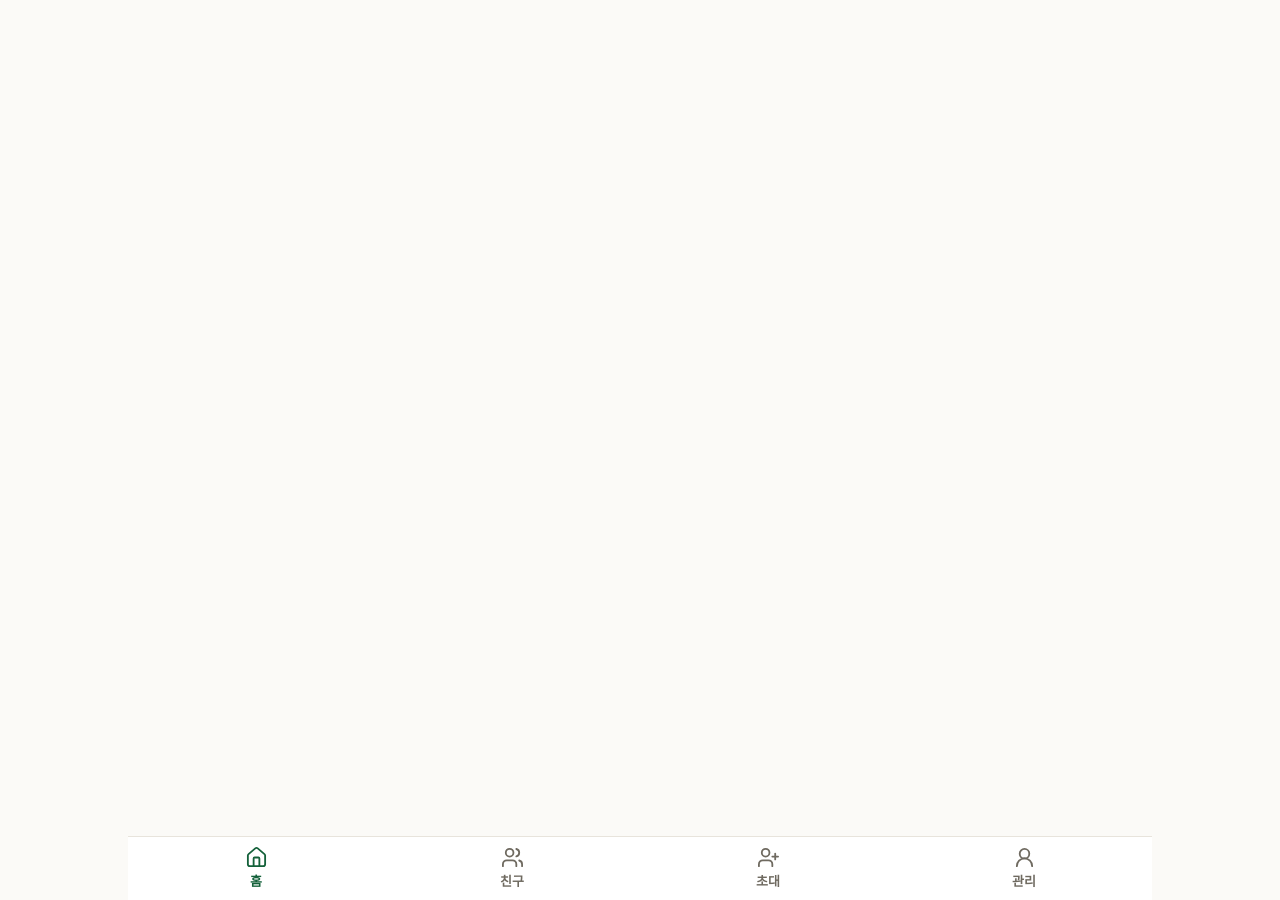
Scenario: GT-03 비회원은 자물쇠 없이 예시 미리보기 시트를 연다
Click the button "친구" at x=512, y=868, box [384,837,640,899]
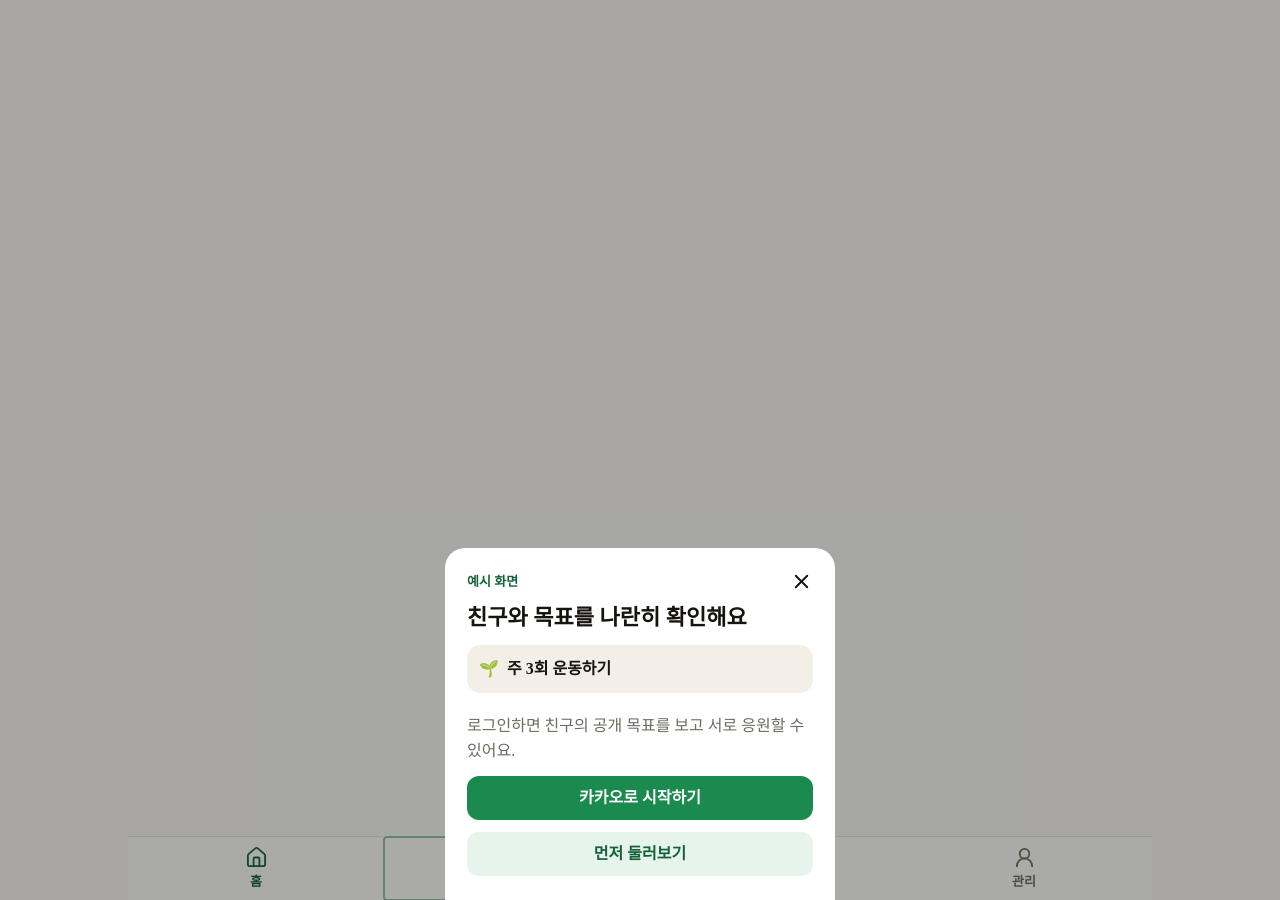
Check: the dialog does not show "친구 3명", box [445,548,835,899]
Check: the dialog shows "예시 화면", box [467,574,518,589]
